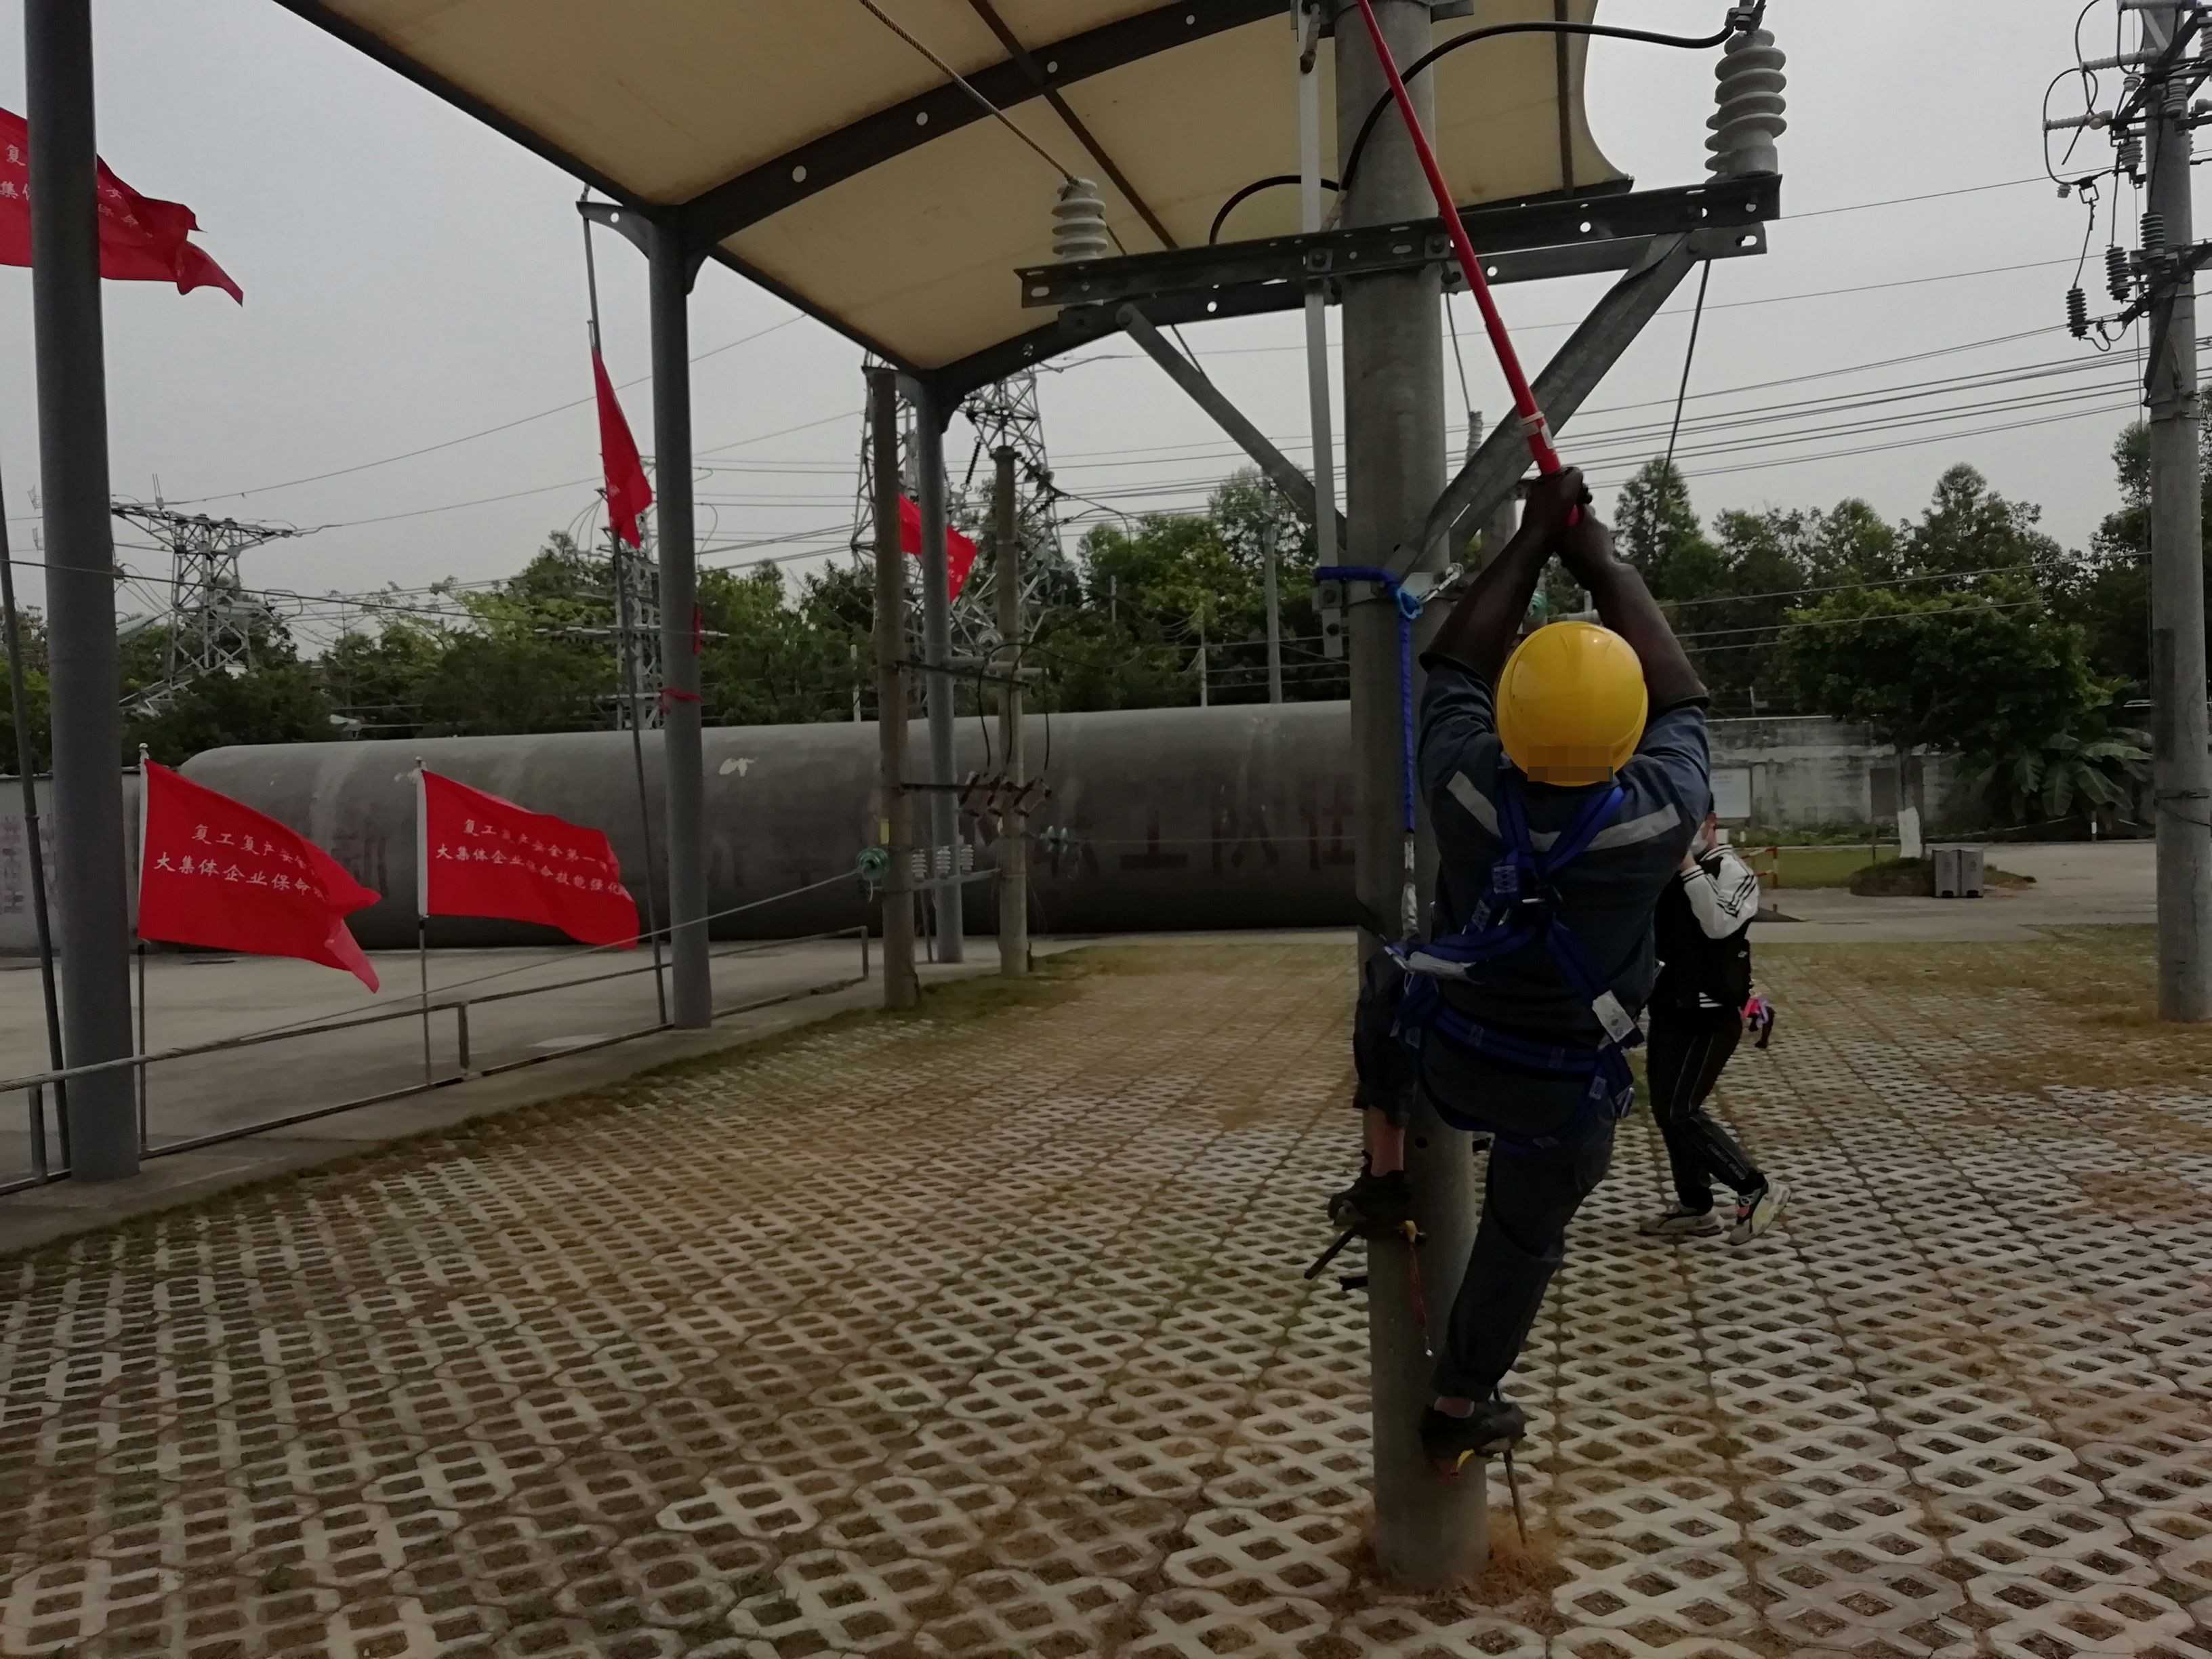downcloth: (1648, 1009, 1757, 1202)
downsuit: (1357, 983, 1613, 1399)
upcloth: (1656, 842, 1761, 1014)
upsuit: (1425, 720, 1702, 1007)
